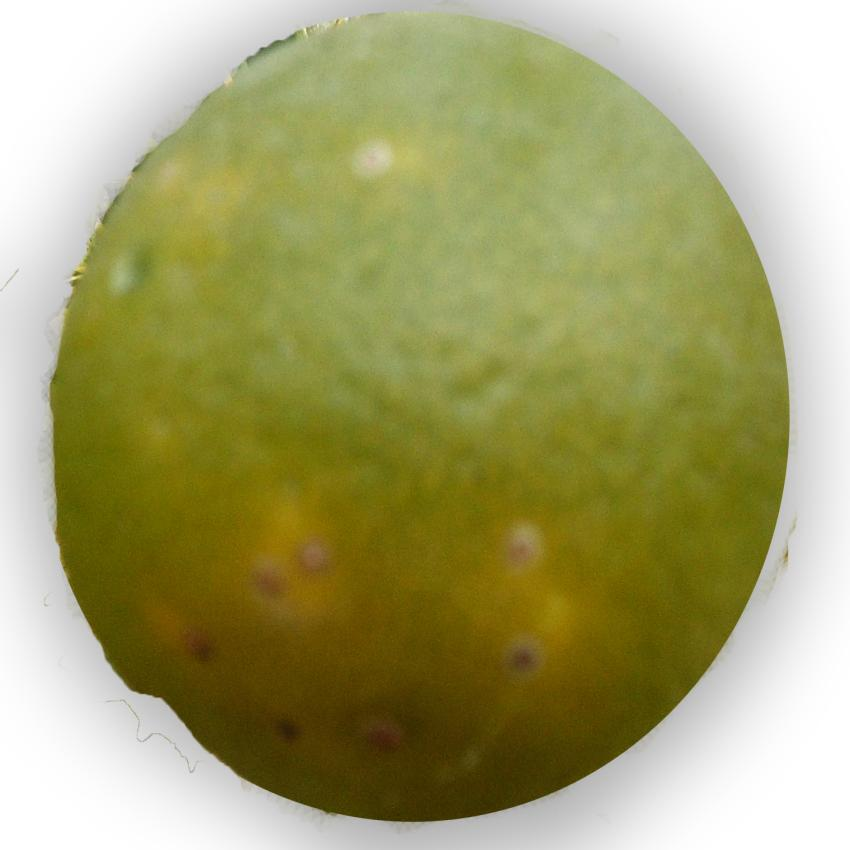Mal estado: (39, 6, 794, 823)
